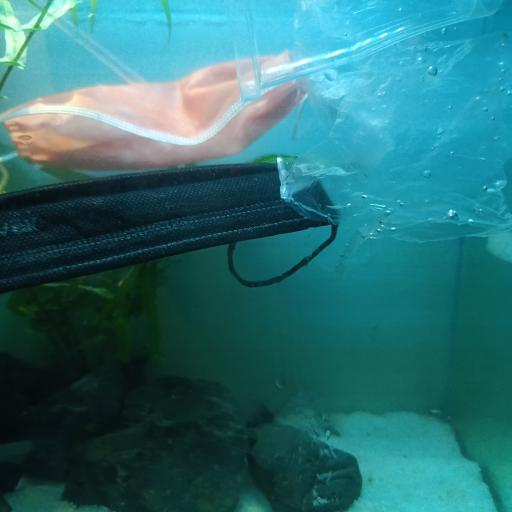mask: (2, 162, 340, 288), (4, 53, 316, 168)
plastic_bag: (275, 0, 512, 265)
plastic_cup: (219, 0, 512, 108)
plastic_straw: (33, 2, 144, 90)
